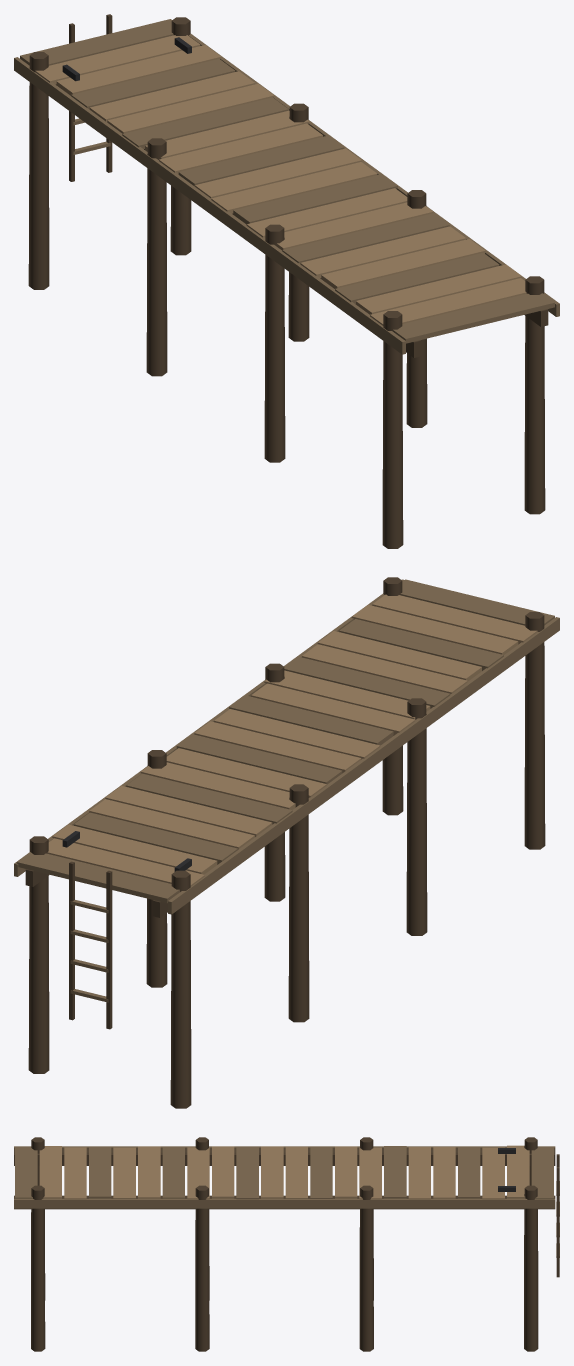
The model's file is dock.glb.
The picture shows the model from 3 angles, top to bottom: view 1: azimuth 30°, elevation 25°; view 2: azimuth 150°, elevation 25°; view 3: azimuth 270°, elevation 25°; orthographic projection. The views are drawn at different scales.
Parts seen in each view (by area): view 1: Dock; view 2: Dock; view 3: Dock.
Part boxes in pixels (x1,y1,x2,y2): Dock: (14, 14, 559, 548); Dock: (14, 577, 559, 1108); Dock: (14, 1137, 559, 1351).
Bounding box in the file's own units: 2.11 × 3 × 9.08.
1 material, 1 textured.
